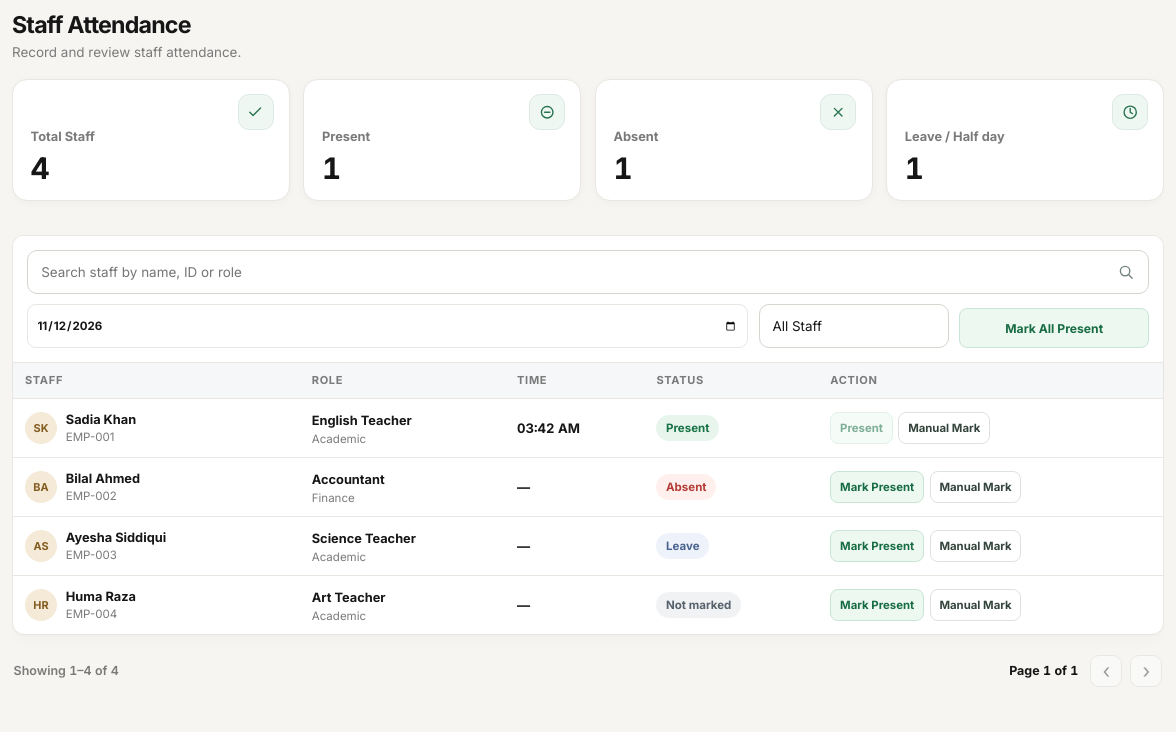
AttendanceStaffWorkspace › filters staff by name and attendance status
Type "bilal" into the search field labelled "Search staff" at (588, 272), box left=27, top=250, right=1149, bottom=294
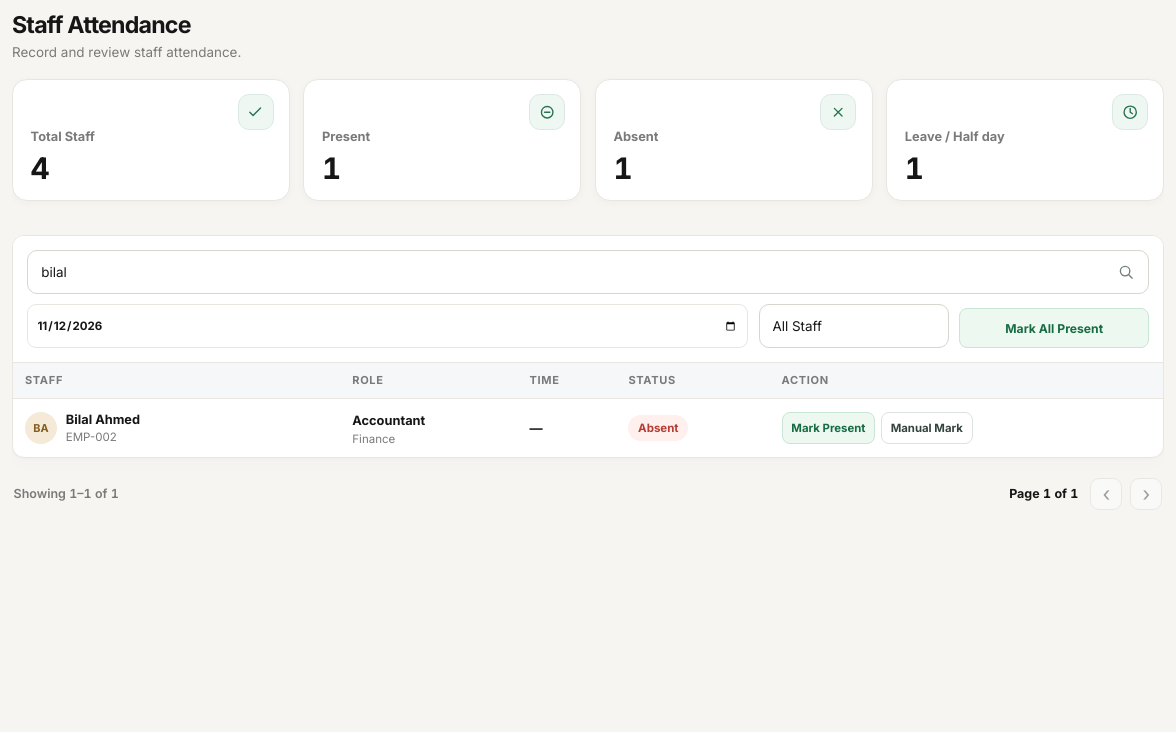
Check: the text "Bilal Ahmed" is shown, box left=66, top=412, right=140, bottom=427
Check: the text "Sadia Khan" is gone
Clear the search field named "Search staff" at (588, 272), box left=27, top=250, right=1149, bottom=294
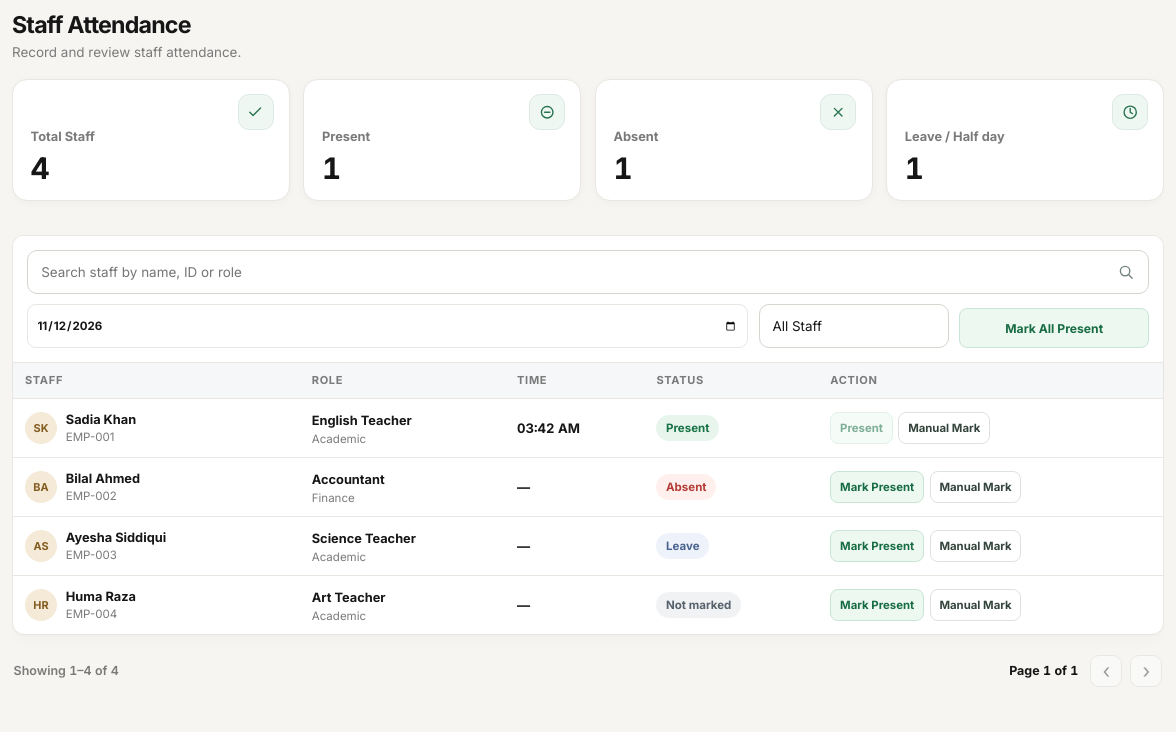
Select "Not marked" in the dropdown named "Staff attendance status" at (854, 326), box left=759, top=304, right=949, bottom=348
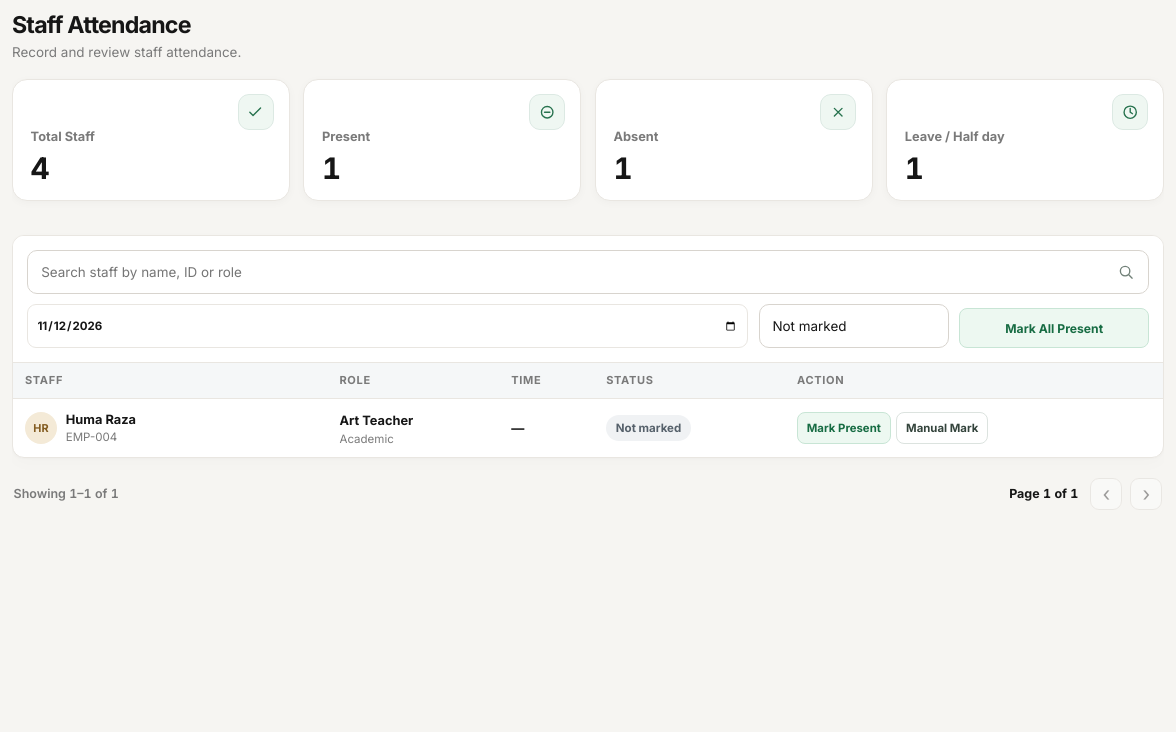
Check: the text "Huma Raza" is shown, box left=66, top=412, right=136, bottom=427
Check: the text "Sadia Khan" is gone
